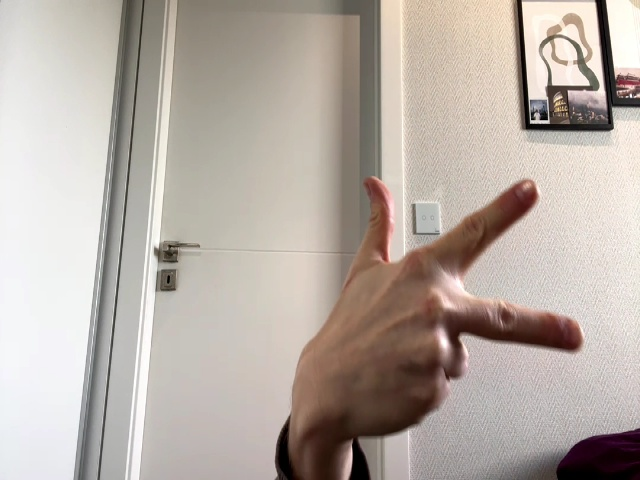K: (306, 176, 586, 436)
